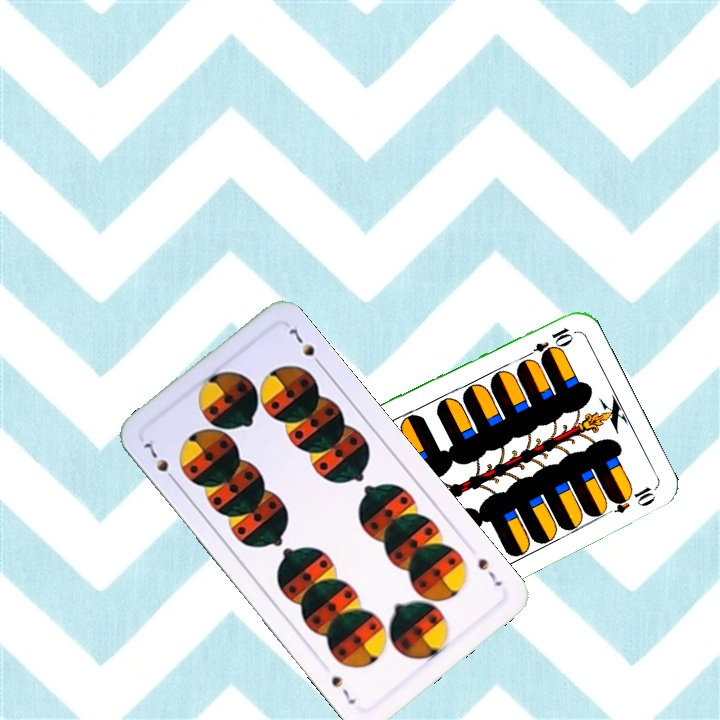E10: (520, 323, 576, 363)
S7: (139, 435, 180, 486), (473, 554, 505, 589)
